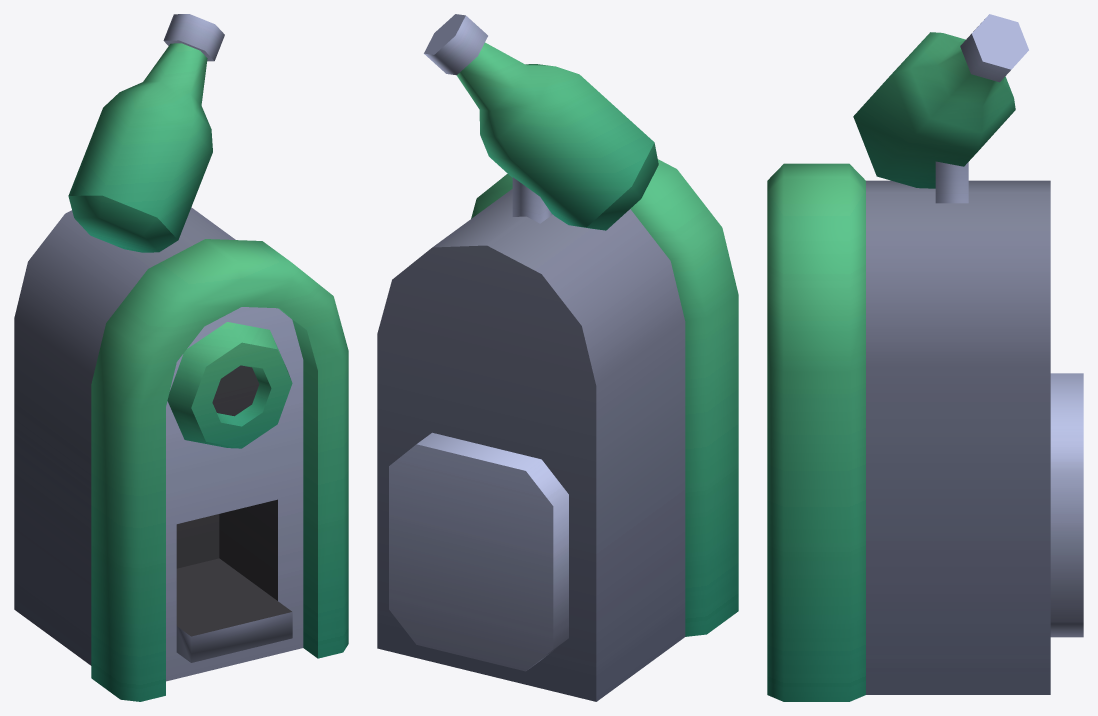
The model's file is bottle-return.glb.
The picture shows the model from 3 angles, left to right: view 1: azimuth 30°, elevation 25°; view 2: azimuth 150°, elevation 25°; view 3: azimuth 270°, elevation 25°; orthographic projection. The views are drawn at different scales.
Parts seen in each view (by area): view 1: bottle-return; view 2: bottle-return; view 3: bottle-return.
Part boxes in pixels (x1,y1,x2,y2): bottle-return: (14, 14, 348, 701); bottle-return: (377, 14, 738, 701); bottle-return: (767, 14, 1083, 701).
Size of the model in its own units: 0.45 by 1.09 by 0.481.
1 material, 1 textured.
